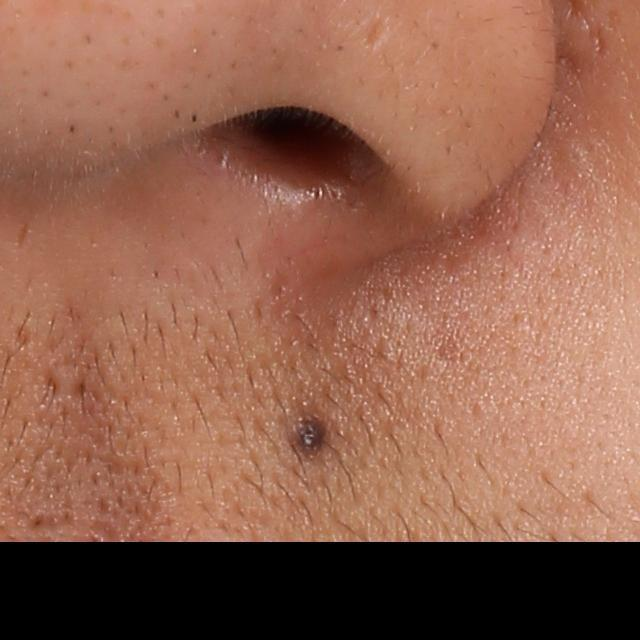atrophic_scar: (584, 20, 609, 64), (364, 16, 392, 53), (11, 213, 31, 251), (40, 367, 58, 403)
nevus: (288, 411, 341, 463)
